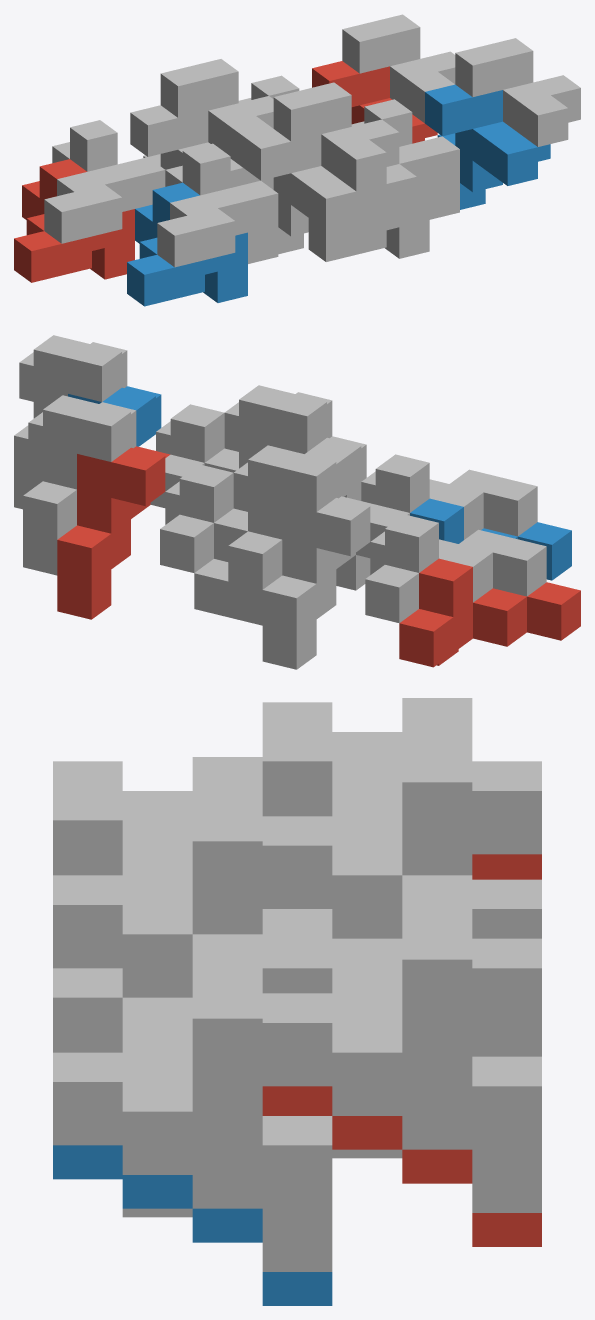
File: tiling.obj
3 views of the same model, one above another, from view 1: azimuth 30°, elevation 25°; view 2: azimuth 150°, elevation 25°; view 3: azimuth 270°, elevation 25° (orthographic). The views are drawn at different scales.
Parts seen in each view (by area): view 1: copy_1_domain_4, copy_1_domain_3, copy_2_domain_6, copy_2_domain_2, copy_2_domain_4, copy_2_domain_8, copy_1_domain_2, copy_1_domain_1, copy_1_domain_8, copy_2_domain_3, copy_2_domain_7, copy_1_domain_6 (+3 smaller); view 2: copy_1_domain_1, copy_2_domain_1, copy_2_domain_5, copy_2_domain_3, copy_1_domain_3, copy_2_domain_7, copy_1_domain_4, copy_2_domain_8, copy_2_domain_4, copy_1_domain_7, copy_1_domain_8, copy_1_domain_5 (+4 smaller); view 3: copy_2_domain_7, copy_2_domain_8, copy_2_domain_3, copy_2_domain_4, copy_1_domain_3, copy_1_domain_4, copy_1_domain_7, copy_1_domain_8, copy_2_domain_6, copy_2_domain_5, copy_1_domain_5, copy_1_domain_1.
Boxes of the visible parts, bbox=[...] form: copy_1_domain_4: bbox=[157, 143, 278, 267]; copy_1_domain_3: bbox=[44, 120, 165, 243]; copy_2_domain_6: bbox=[425, 84, 550, 209]; copy_2_domain_2: bbox=[243, 129, 356, 254]; copy_2_domain_4: bbox=[273, 82, 399, 191]; copy_2_domain_8: bbox=[455, 38, 580, 146]; copy_1_domain_2: bbox=[127, 182, 247, 306]; copy_1_domain_1: bbox=[14, 159, 134, 282]; copy_1_domain_8: bbox=[351, 99, 459, 222]; copy_2_domain_3: bbox=[160, 59, 273, 167]; copy_2_domain_7: bbox=[342, 14, 455, 123]; copy_1_domain_6: bbox=[308, 188, 429, 261]; copy_1_domain_1: bbox=[399, 558, 580, 667]; copy_2_domain_1: bbox=[262, 496, 375, 669]; copy_2_domain_5: bbox=[57, 446, 170, 619]; copy_2_domain_3: bbox=[228, 445, 341, 625]; copy_1_domain_3: bbox=[365, 514, 546, 623]; copy_2_domain_7: bbox=[23, 395, 136, 575]; copy_1_domain_4: bbox=[356, 454, 537, 558]; copy_2_domain_8: bbox=[14, 335, 127, 509]; copy_2_domain_4: bbox=[224, 385, 332, 468]; copy_1_domain_7: bbox=[160, 464, 233, 572]; copy_1_domain_8: bbox=[150, 404, 224, 507]; copy_1_domain_5: bbox=[194, 508, 370, 616]; copy_2_domain_7: bbox=[262, 900, 541, 1212]; copy_2_domain_8: bbox=[53, 959, 332, 1271]; copy_2_domain_3: bbox=[262, 723, 541, 938]; copy_2_domain_4: bbox=[53, 782, 332, 997]; copy_1_domain_3: bbox=[262, 698, 541, 854]; copy_1_domain_4: bbox=[53, 757, 262, 875]; copy_1_domain_7: bbox=[262, 875, 541, 1031]; copy_1_domain_8: bbox=[53, 934, 262, 1052]; copy_2_domain_6: bbox=[53, 1145, 332, 1305]; copy_2_domain_5: bbox=[262, 1086, 541, 1246]; copy_1_domain_5: bbox=[332, 1031, 541, 1158]; copy_1_domain_1: bbox=[472, 854, 541, 879].
Bounding box in the file's own units: 17 × 5 × 7.
